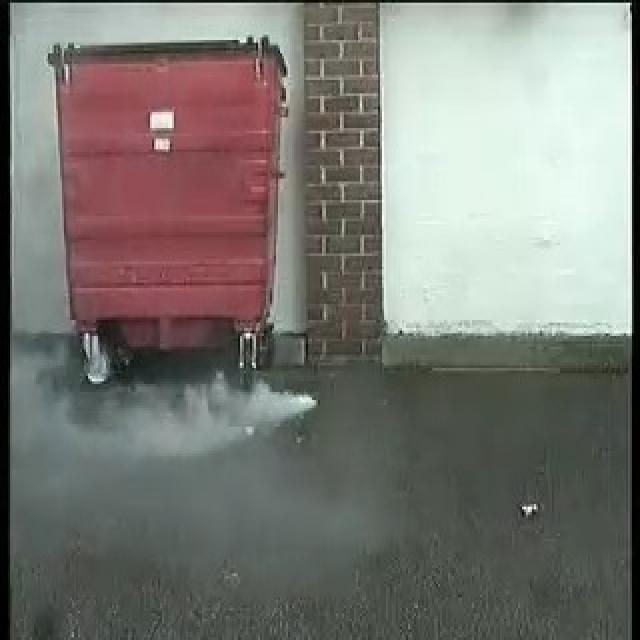smoke: (26, 383, 319, 468)
